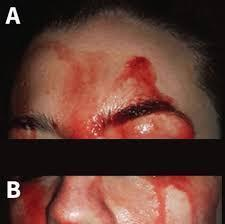Fire: (48, 35, 193, 139), (10, 177, 59, 224), (152, 177, 193, 198), (9, 128, 37, 140)
